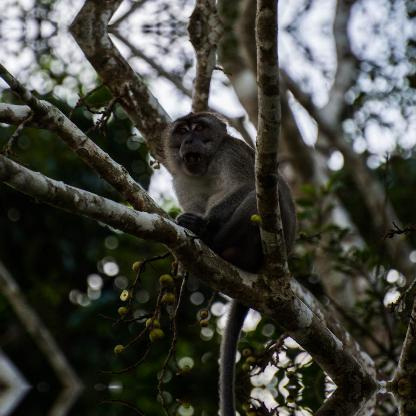Monkey: (162, 110, 297, 386)
